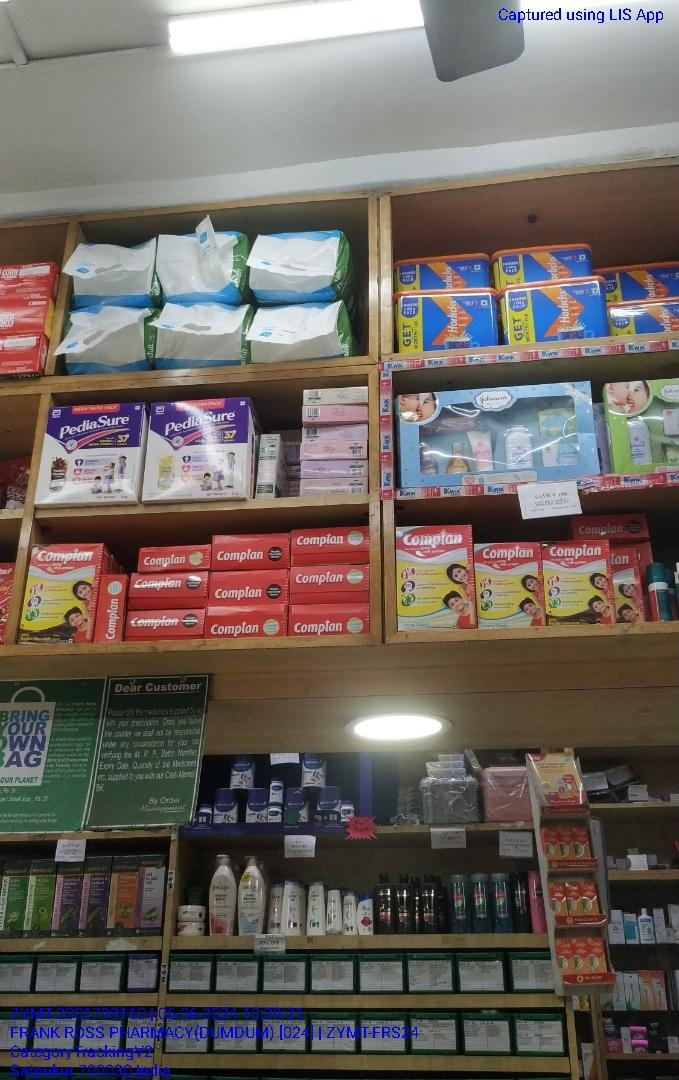PEDIASURE_CHOCOLATE_500_G_PACK: (34, 396, 142, 507)
